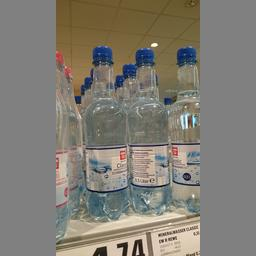water: (82, 44, 132, 222), (126, 46, 170, 215), (168, 45, 198, 216)
